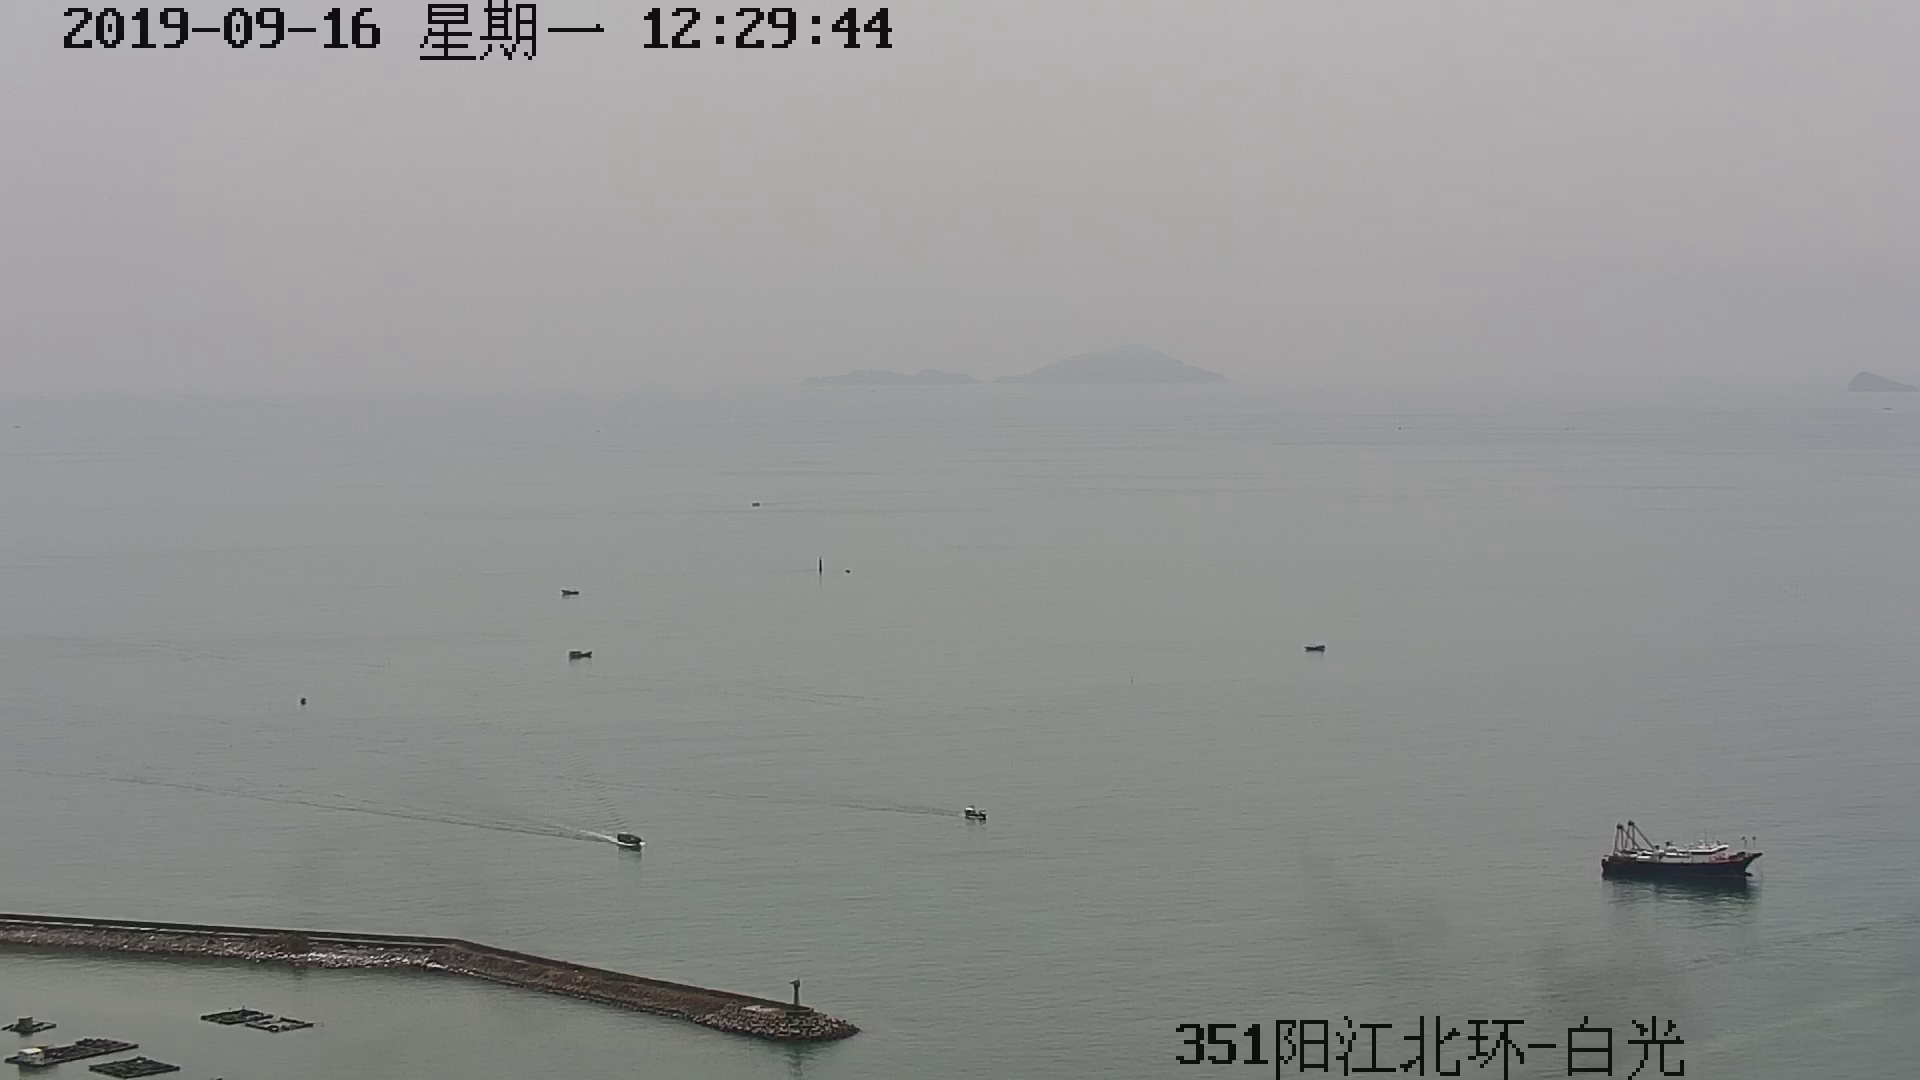ship: (1602, 815, 1764, 885), (609, 827, 645, 851)
